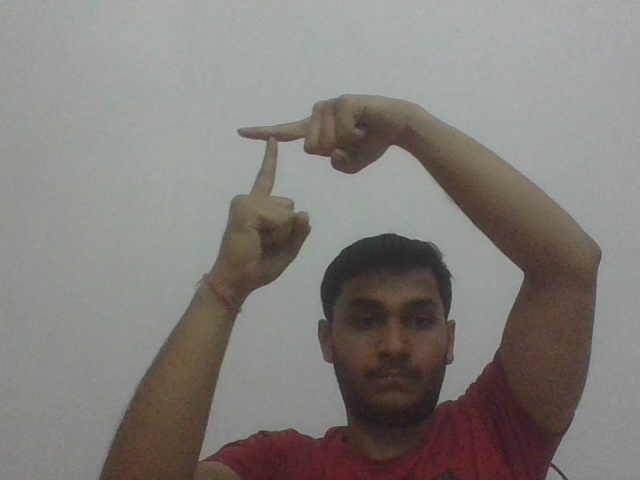T: (234, 113, 301, 197)
